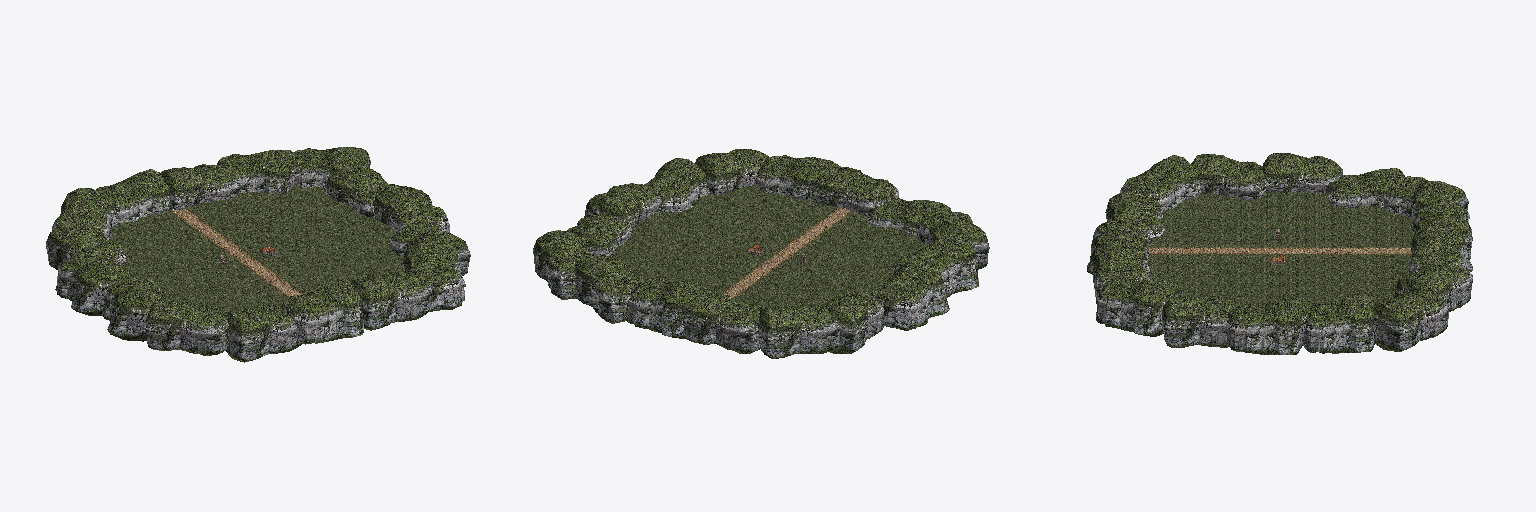
3 views of the same model, side by side, from view 1: azimuth 30°, elevation 25°; view 2: azimuth 150°, elevation 25°; view 3: azimuth 270°, elevation 25° (orthographic).
Visible parts, largest first — view 1: stone, Terrain; view 2: stone, Terrain; view 3: stone, Terrain.
Part boxes in pixels (left/top/right/bottom): stone: left=46, top=147, right=470, bottom=362; Terrain: left=108, top=185, right=404, bottom=312; stone: left=533, top=149, right=989, bottom=358; Terrain: left=613, top=185, right=926, bottom=341; stone: left=1087, top=153, right=1472, bottom=354; Terrain: left=1148, top=192, right=1414, bottom=321.
Bounding box in the file's own units: 558 × 77.38 × 517.
Materials: 2 (2 with a texture image).